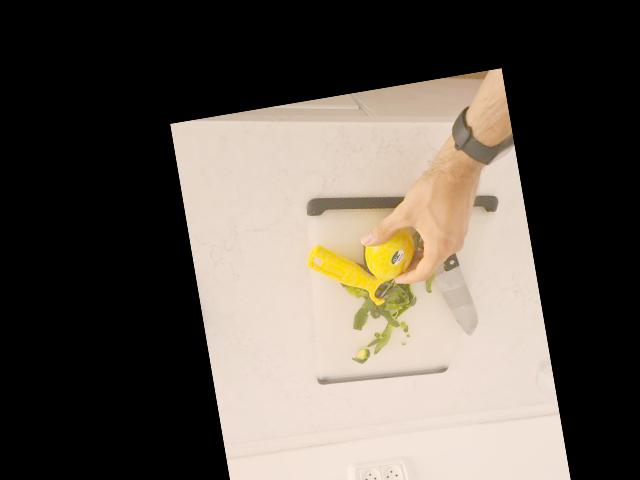lemon: (359, 221, 421, 281)
